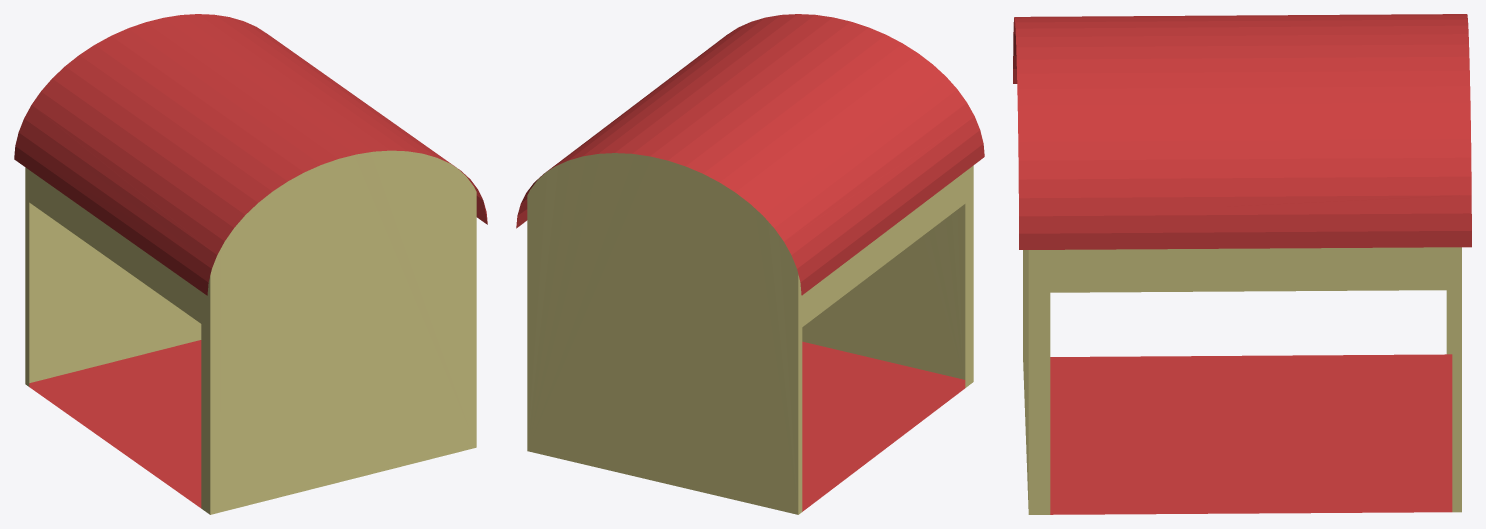
3 renders of one model, left to right at view 1: azimuth 30°, elevation 25°; view 2: azimuth 150°, elevation 25°; view 3: azimuth 270°, elevation 25°, orthographic. The views are drawn at different scales.
Bounding box in the file's own units: 10.25 × 11.76 × 11.14.
